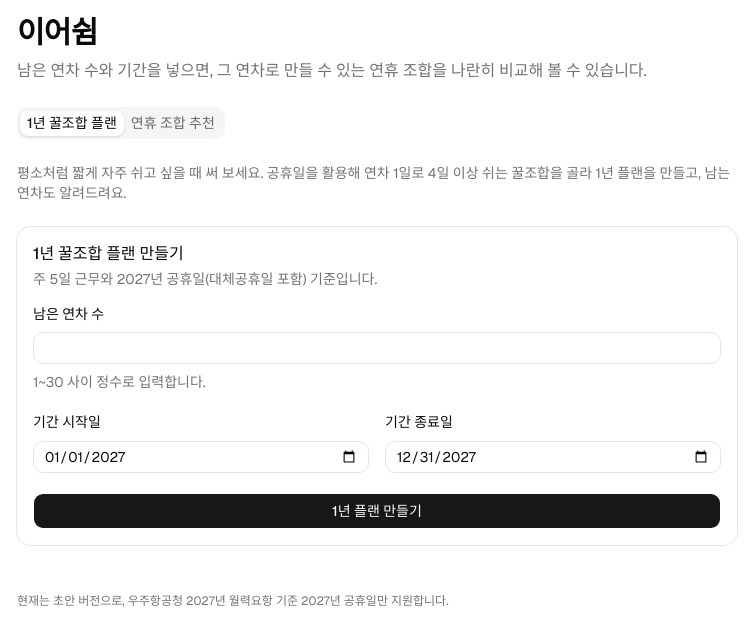
Test case: 연휴 조합 추천 화면 › 연차 수 를 넣으면 결과 없이 1~30 안내를 보여준다
Click the tab "연휴 조합 추천". click: (173, 123)
box: x1=124 y1=110 x2=222 y2=136
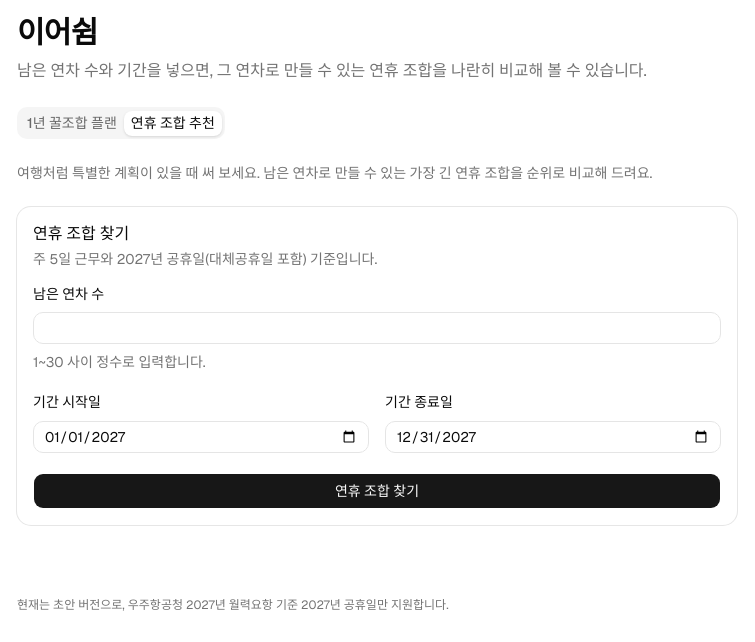
Click the button "연휴 조합 찾기". click: (377, 490)
box: x1=33 y1=472 x2=721 y2=508
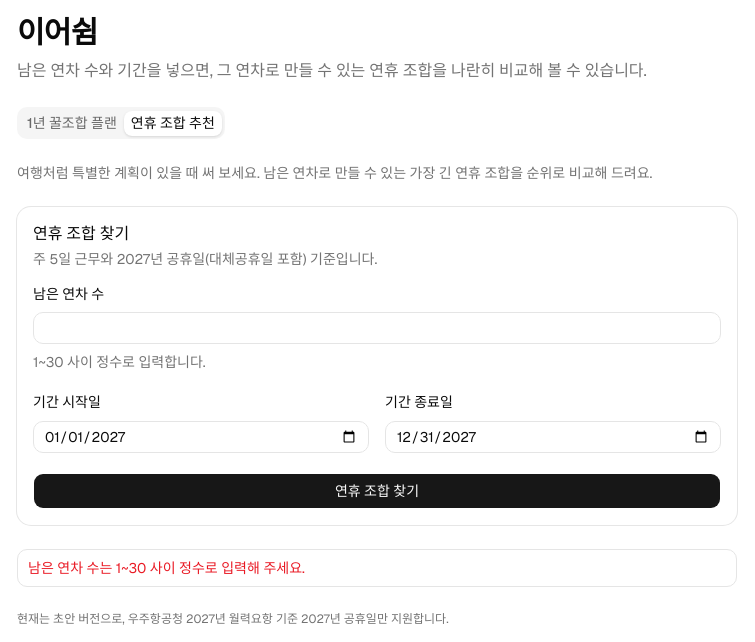
Now the message shows "1~30", box x1=28 y1=558 x2=305 y2=576
